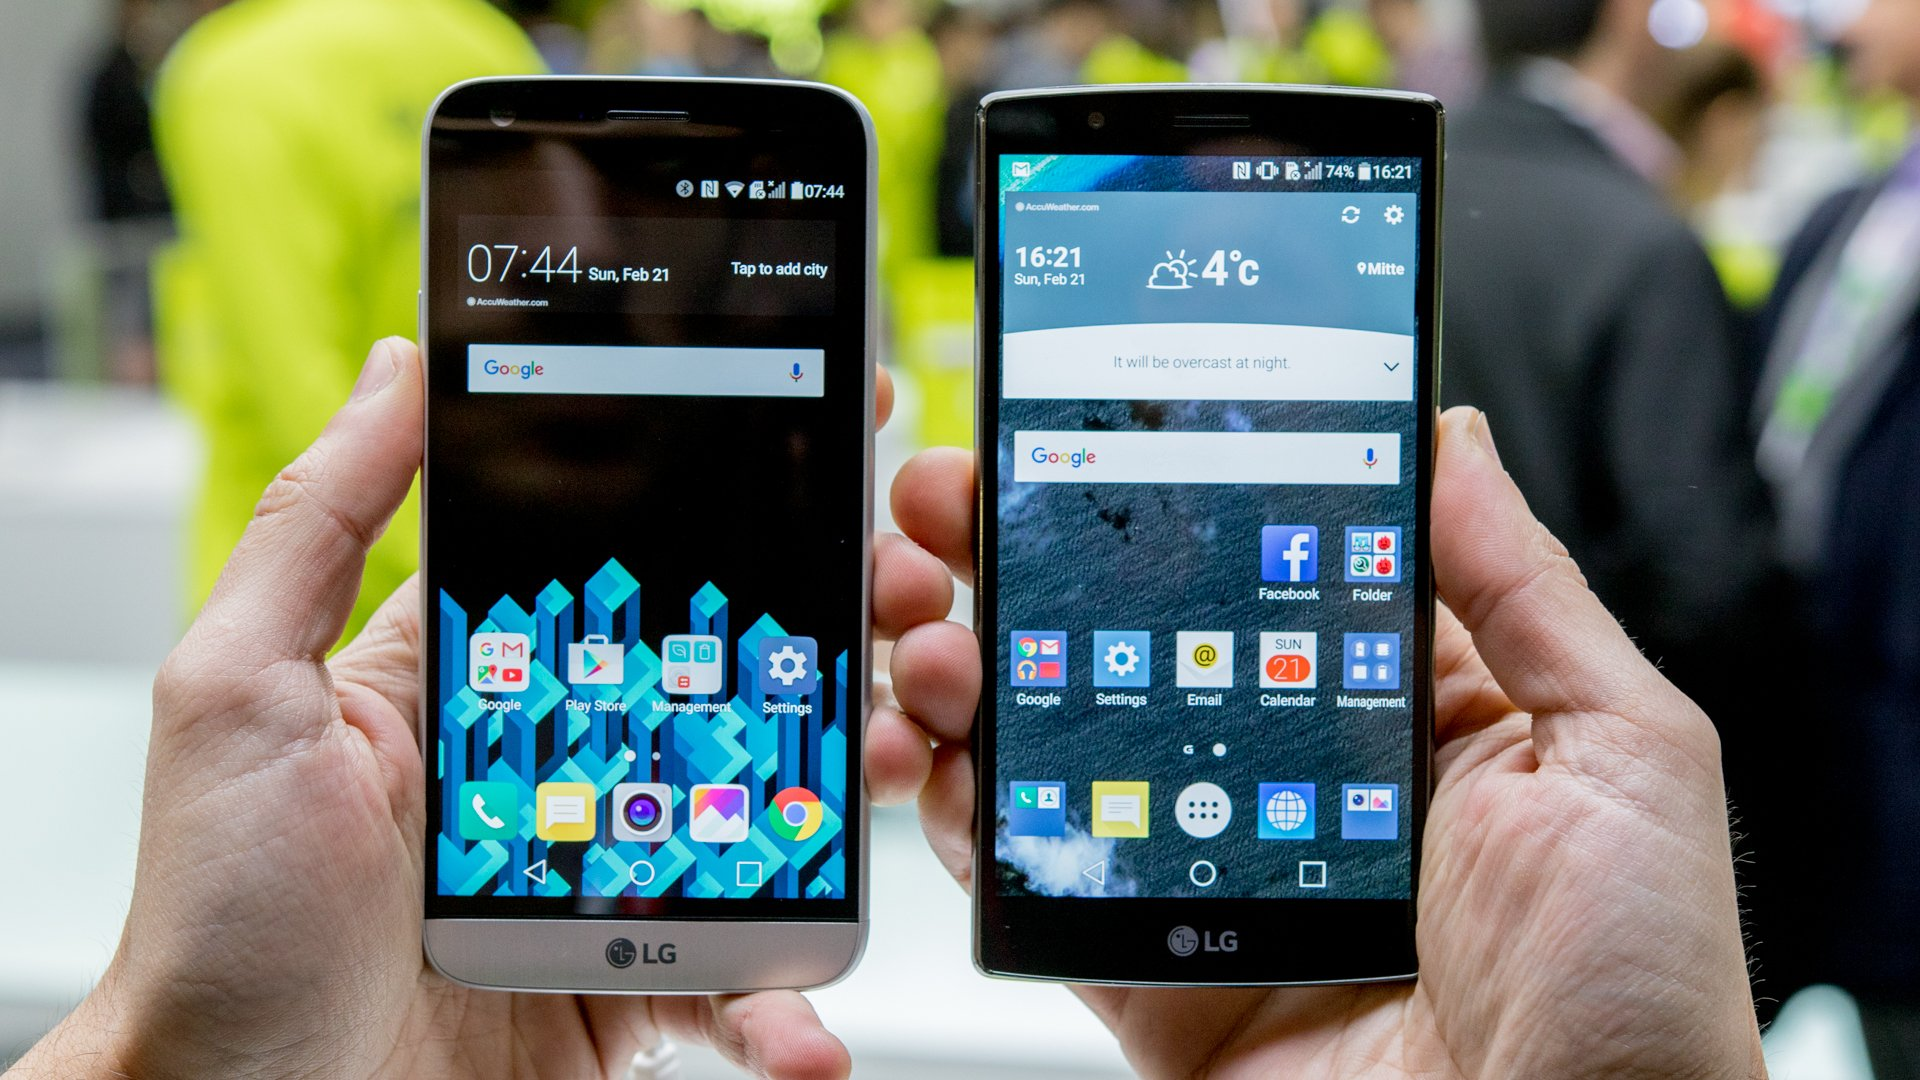smartphone: (972, 80, 1447, 992), (415, 73, 878, 996)
